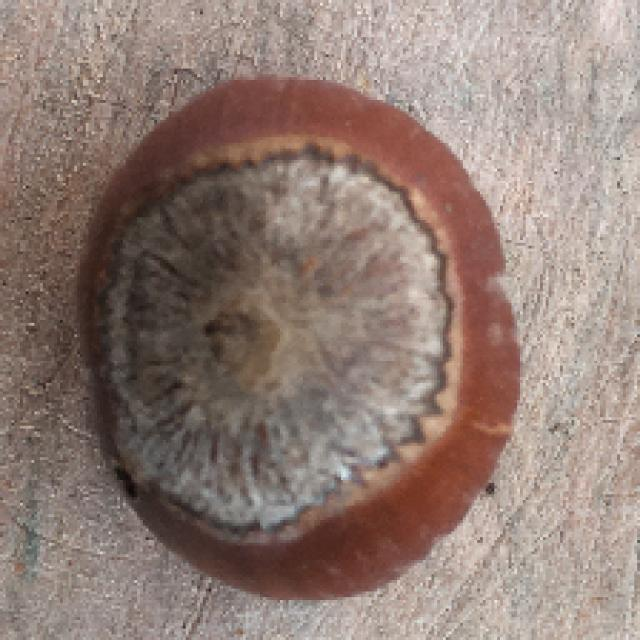qualityHazelnut: (77, 77, 530, 605)
